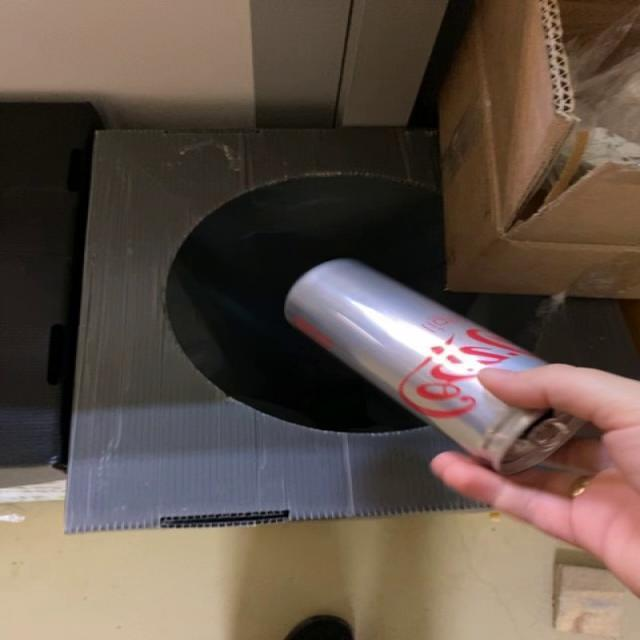Bin: (65, 128, 637, 534)
Metal: (284, 259, 583, 475)
